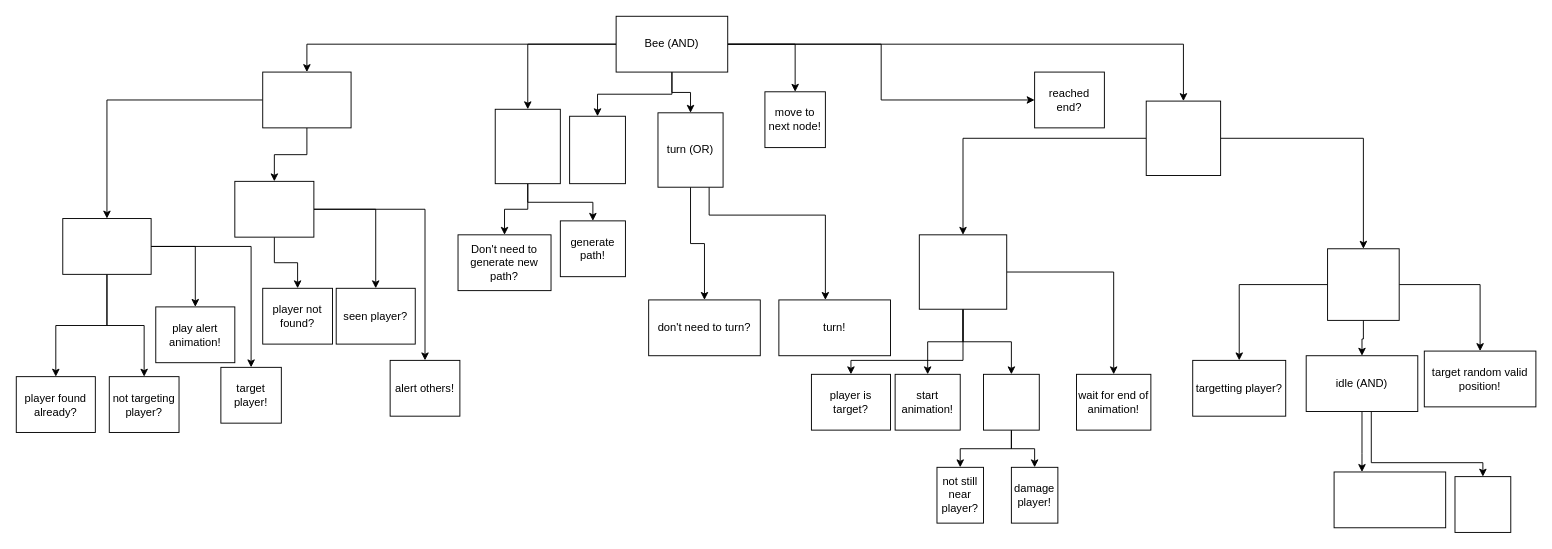
Some shapes in this 1552 by 549 pixel diagram are drawn without their labels. Here are the shapes that lost their labels. From the top down, the centre of each, then its label:
pixel 306 99: check player (OR)
pixel 527 146: generate path (OR)
pixel 597 149: path exists?
pixel 1183 137: check if attack player (OR)
pixel 274 208: search (AND)
pixel 106 246: react to player (AND)
pixel 962 271: attack player (AND)
pixel 1363 284: get new target (OR)
pixel 1011 401: hit player (OR)
pixel 1389 499: should idle?
pixel 1482 504: Idle!
